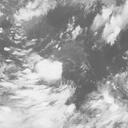cyclone: (38, 57, 63, 84)
